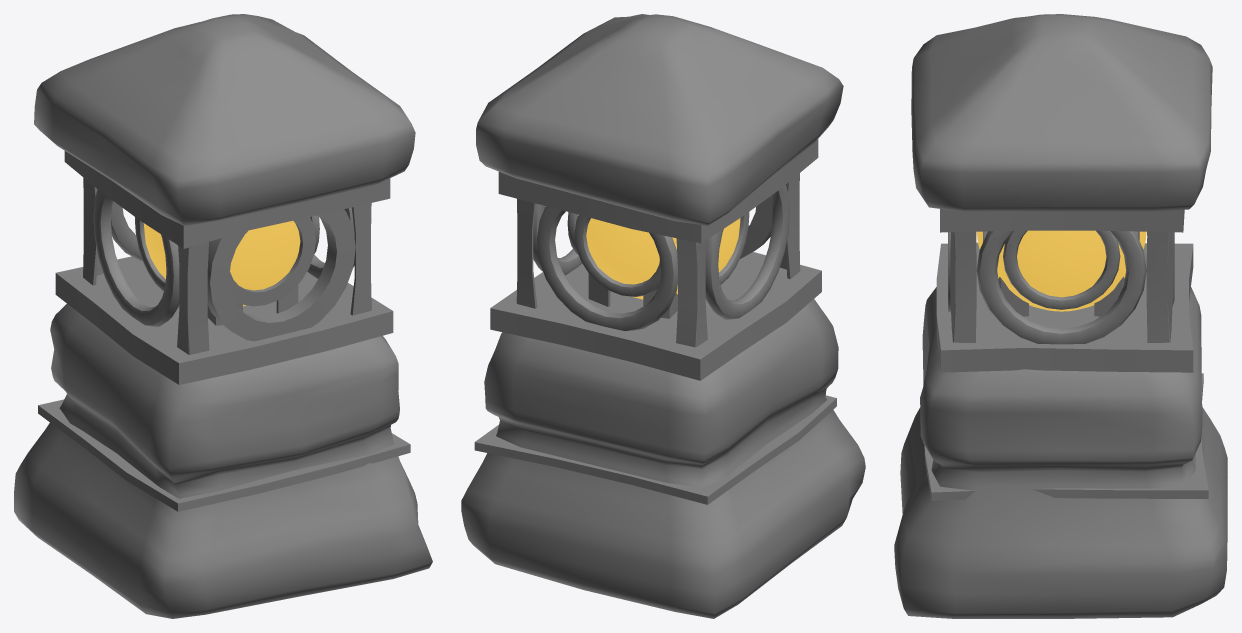
The model's file is lantern.glb.
3 views of the same model, side by side, from view 1: azimuth 30°, elevation 25°; view 2: azimuth 150°, elevation 25°; view 3: azimuth 270°, elevation 25° (orthographic). The views are drawn at different scales.
Visible parts, largest first — view 1: RockBase, RockTop.002, Cube.003, Cylinder.001, Cube.002, Cube.001, Cube.005, Sphere, Cylinder.002; view 2: RockBase, RockTop.002, Cube.003, Cylinder.001, Cube.002, Cube.001, Cube.005, Sphere, Cylinder.002, Cube.004; view 3: RockBase, RockTop.002, Cube.003, Cylinder.001, Sphere, Cube.002, Cube.001, Cube.005, Cylinder.002, Cube.004.
Boxes of the visible parts, box(x1,y1,x2,y2) form: RockBase: box(14, 304, 432, 618); RockTop.002: box(34, 14, 415, 225); Cube.003: box(55, 256, 393, 384); Cylinder.001: box(93, 189, 355, 341); Cube.002: box(83, 177, 371, 354); Cube.001: box(64, 151, 390, 248); Cube.005: box(38, 399, 410, 511); Sphere: box(143, 221, 300, 306); Cylinder.002: box(135, 215, 319, 306); RockBase: box(461, 299, 865, 618); RockTop.002: box(476, 14, 843, 225); Cube.003: box(490, 252, 821, 380); Cylinder.001: box(533, 185, 789, 331); Cube.002: box(516, 173, 800, 347); Cube.001: box(498, 139, 818, 243); Cube.005: box(474, 395, 836, 504); Sphere: box(578, 214, 740, 299); Cylinder.002: box(567, 212, 749, 296); Cube.004: box(588, 273, 677, 318); RockBase: box(894, 287, 1227, 618); RockTop.002: box(911, 14, 1212, 212); Cube.003: box(936, 242, 1193, 372); Cylinder.001: box(948, 231, 1174, 344); Sphere: box(976, 230, 1146, 311); Cube.002: box(950, 231, 1172, 342); Cube.001: box(940, 209, 1184, 232); Cube.005: box(924, 373, 1208, 500); Cylinder.002: box(983, 230, 1139, 309); Cube.004: box(998, 276, 1124, 316).
Bounding box in the file's own units: 0.5851 × 1.04 × 0.5924.
